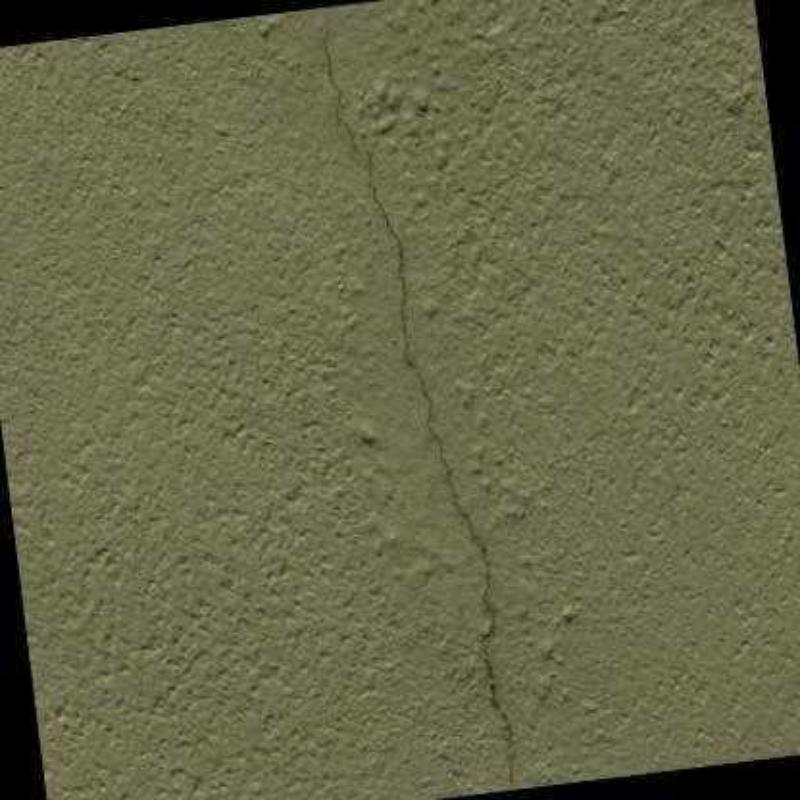pothole: (323, 6, 512, 789)
